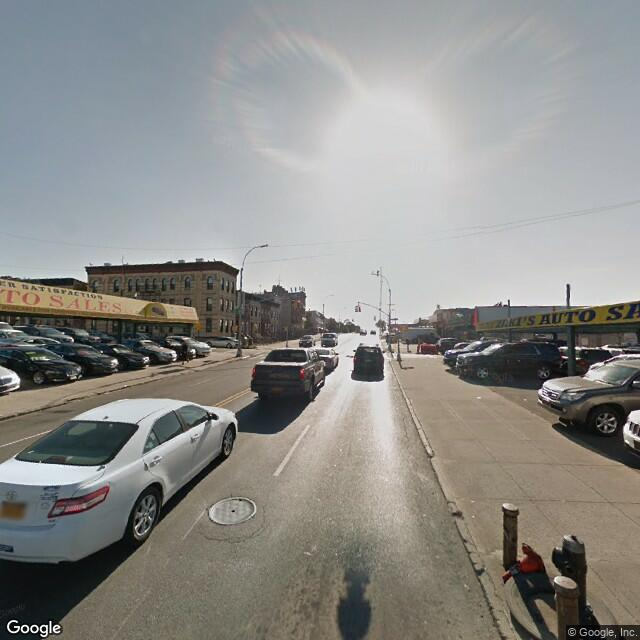litter: (491, 547, 550, 570)
